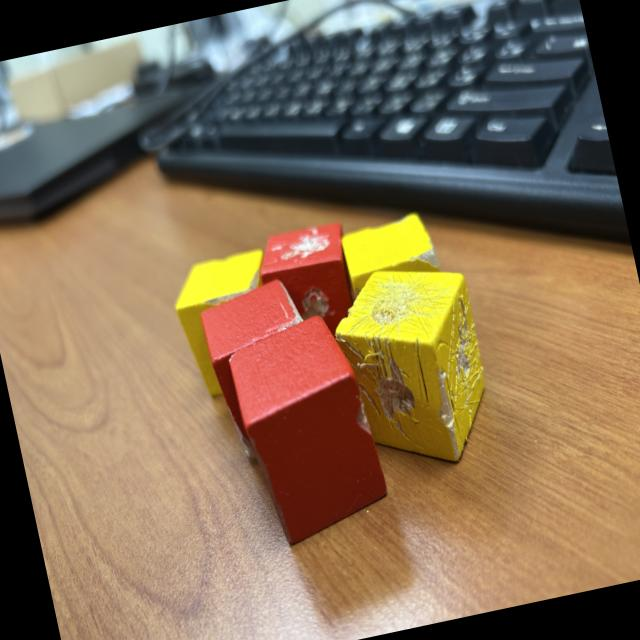broken: (222, 308, 394, 550), (324, 252, 502, 481), (195, 275, 332, 467), (166, 246, 292, 402), (338, 210, 457, 365), (250, 220, 368, 366)
